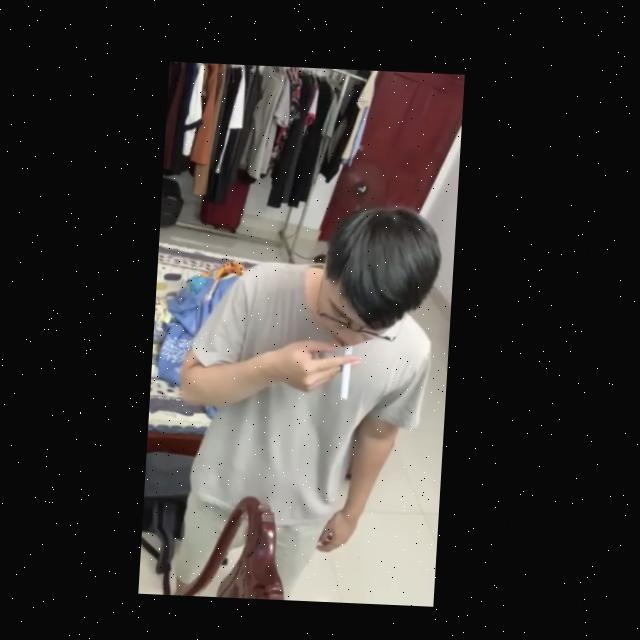cigarette: (343, 340, 360, 398)
